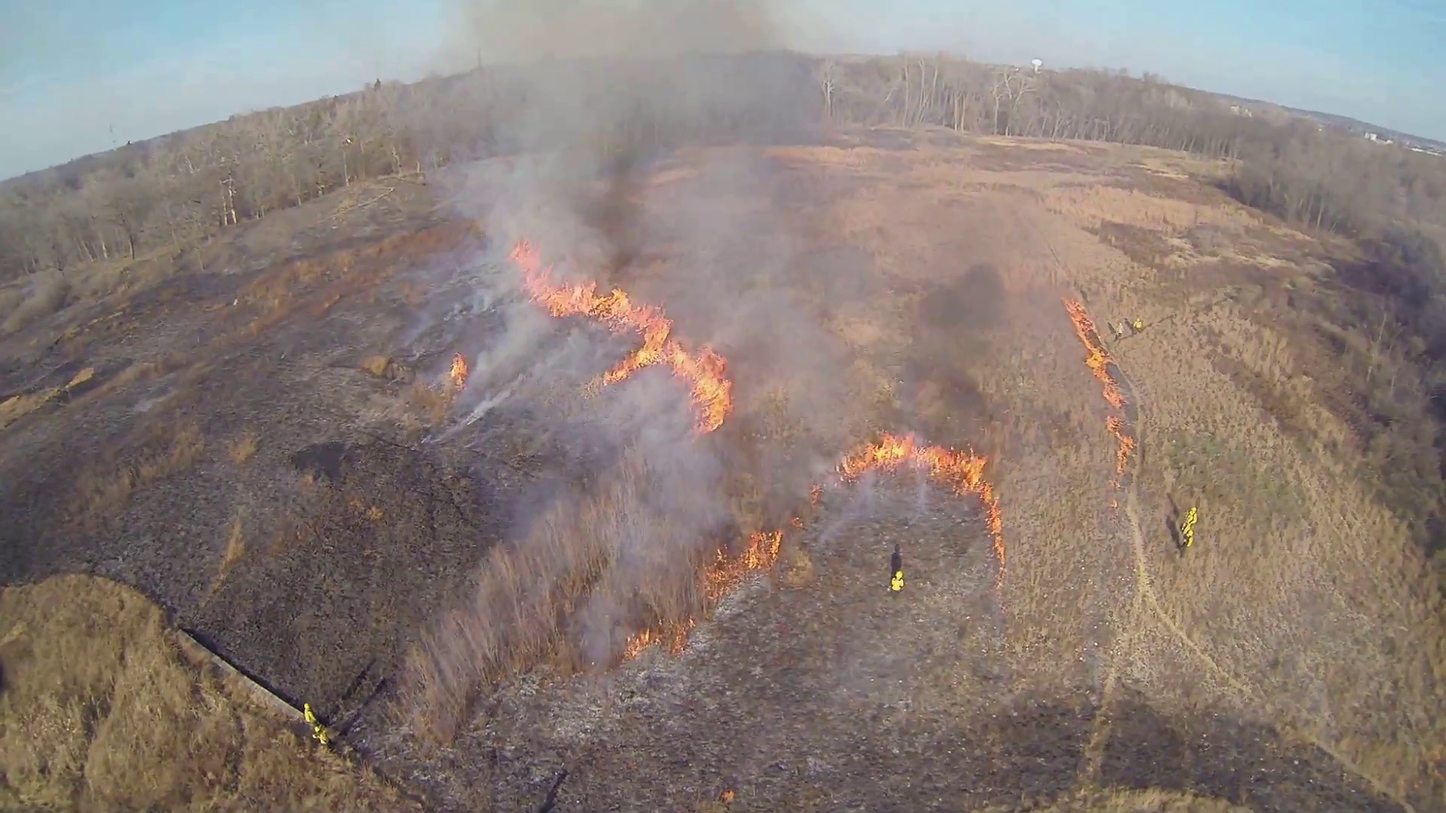forest_fire: (509, 240, 732, 432), (837, 434, 1005, 583), (1066, 300, 1127, 410), (705, 531, 781, 600), (1106, 416, 1135, 476), (449, 354, 468, 386)
